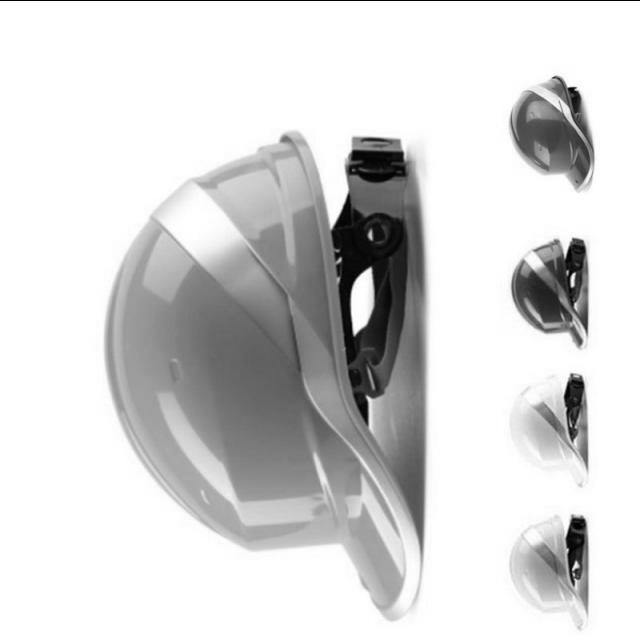construction helmet: (106, 128, 425, 621), (507, 70, 603, 193), (507, 510, 591, 629), (510, 235, 593, 349), (517, 372, 593, 489)
